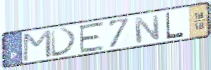7: (107, 17, 132, 50)
D: (49, 27, 79, 59)
E: (78, 20, 106, 54)
L: (165, 11, 185, 40)
M: (21, 28, 53, 63)
N: (132, 13, 162, 45)
